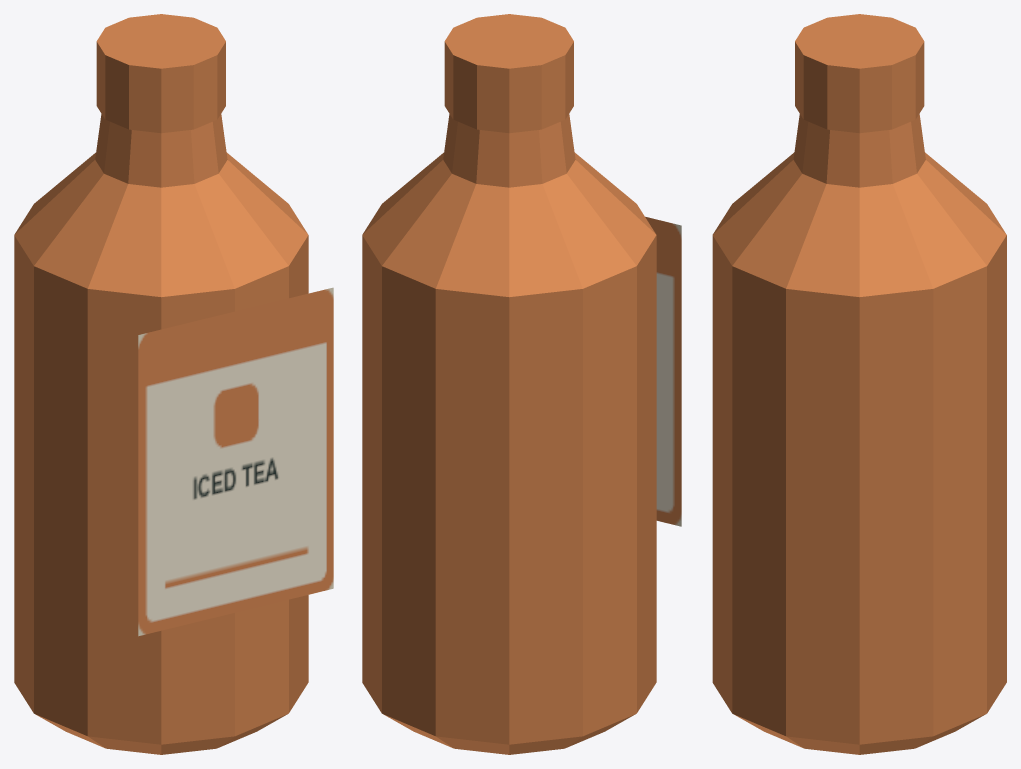
File: iced_tea.fbx
3 views of the same model, side by side, from view 1: azimuth 30°, elevation 25°; view 2: azimuth 150°, elevation 25°; view 3: azimuth 270°, elevation 25° (orthographic).
Visible parts, largest first — view 1: iced_tea; view 2: iced_tea; view 3: iced_tea.
Part boxes in pixels (x1,y1,x2,y2): iced_tea: (14,14,333,754); iced_tea: (362,14,681,754); iced_tea: (712,14,1006,754).
Size of the model in its own units: 12.4 by 31 by 12.5.
